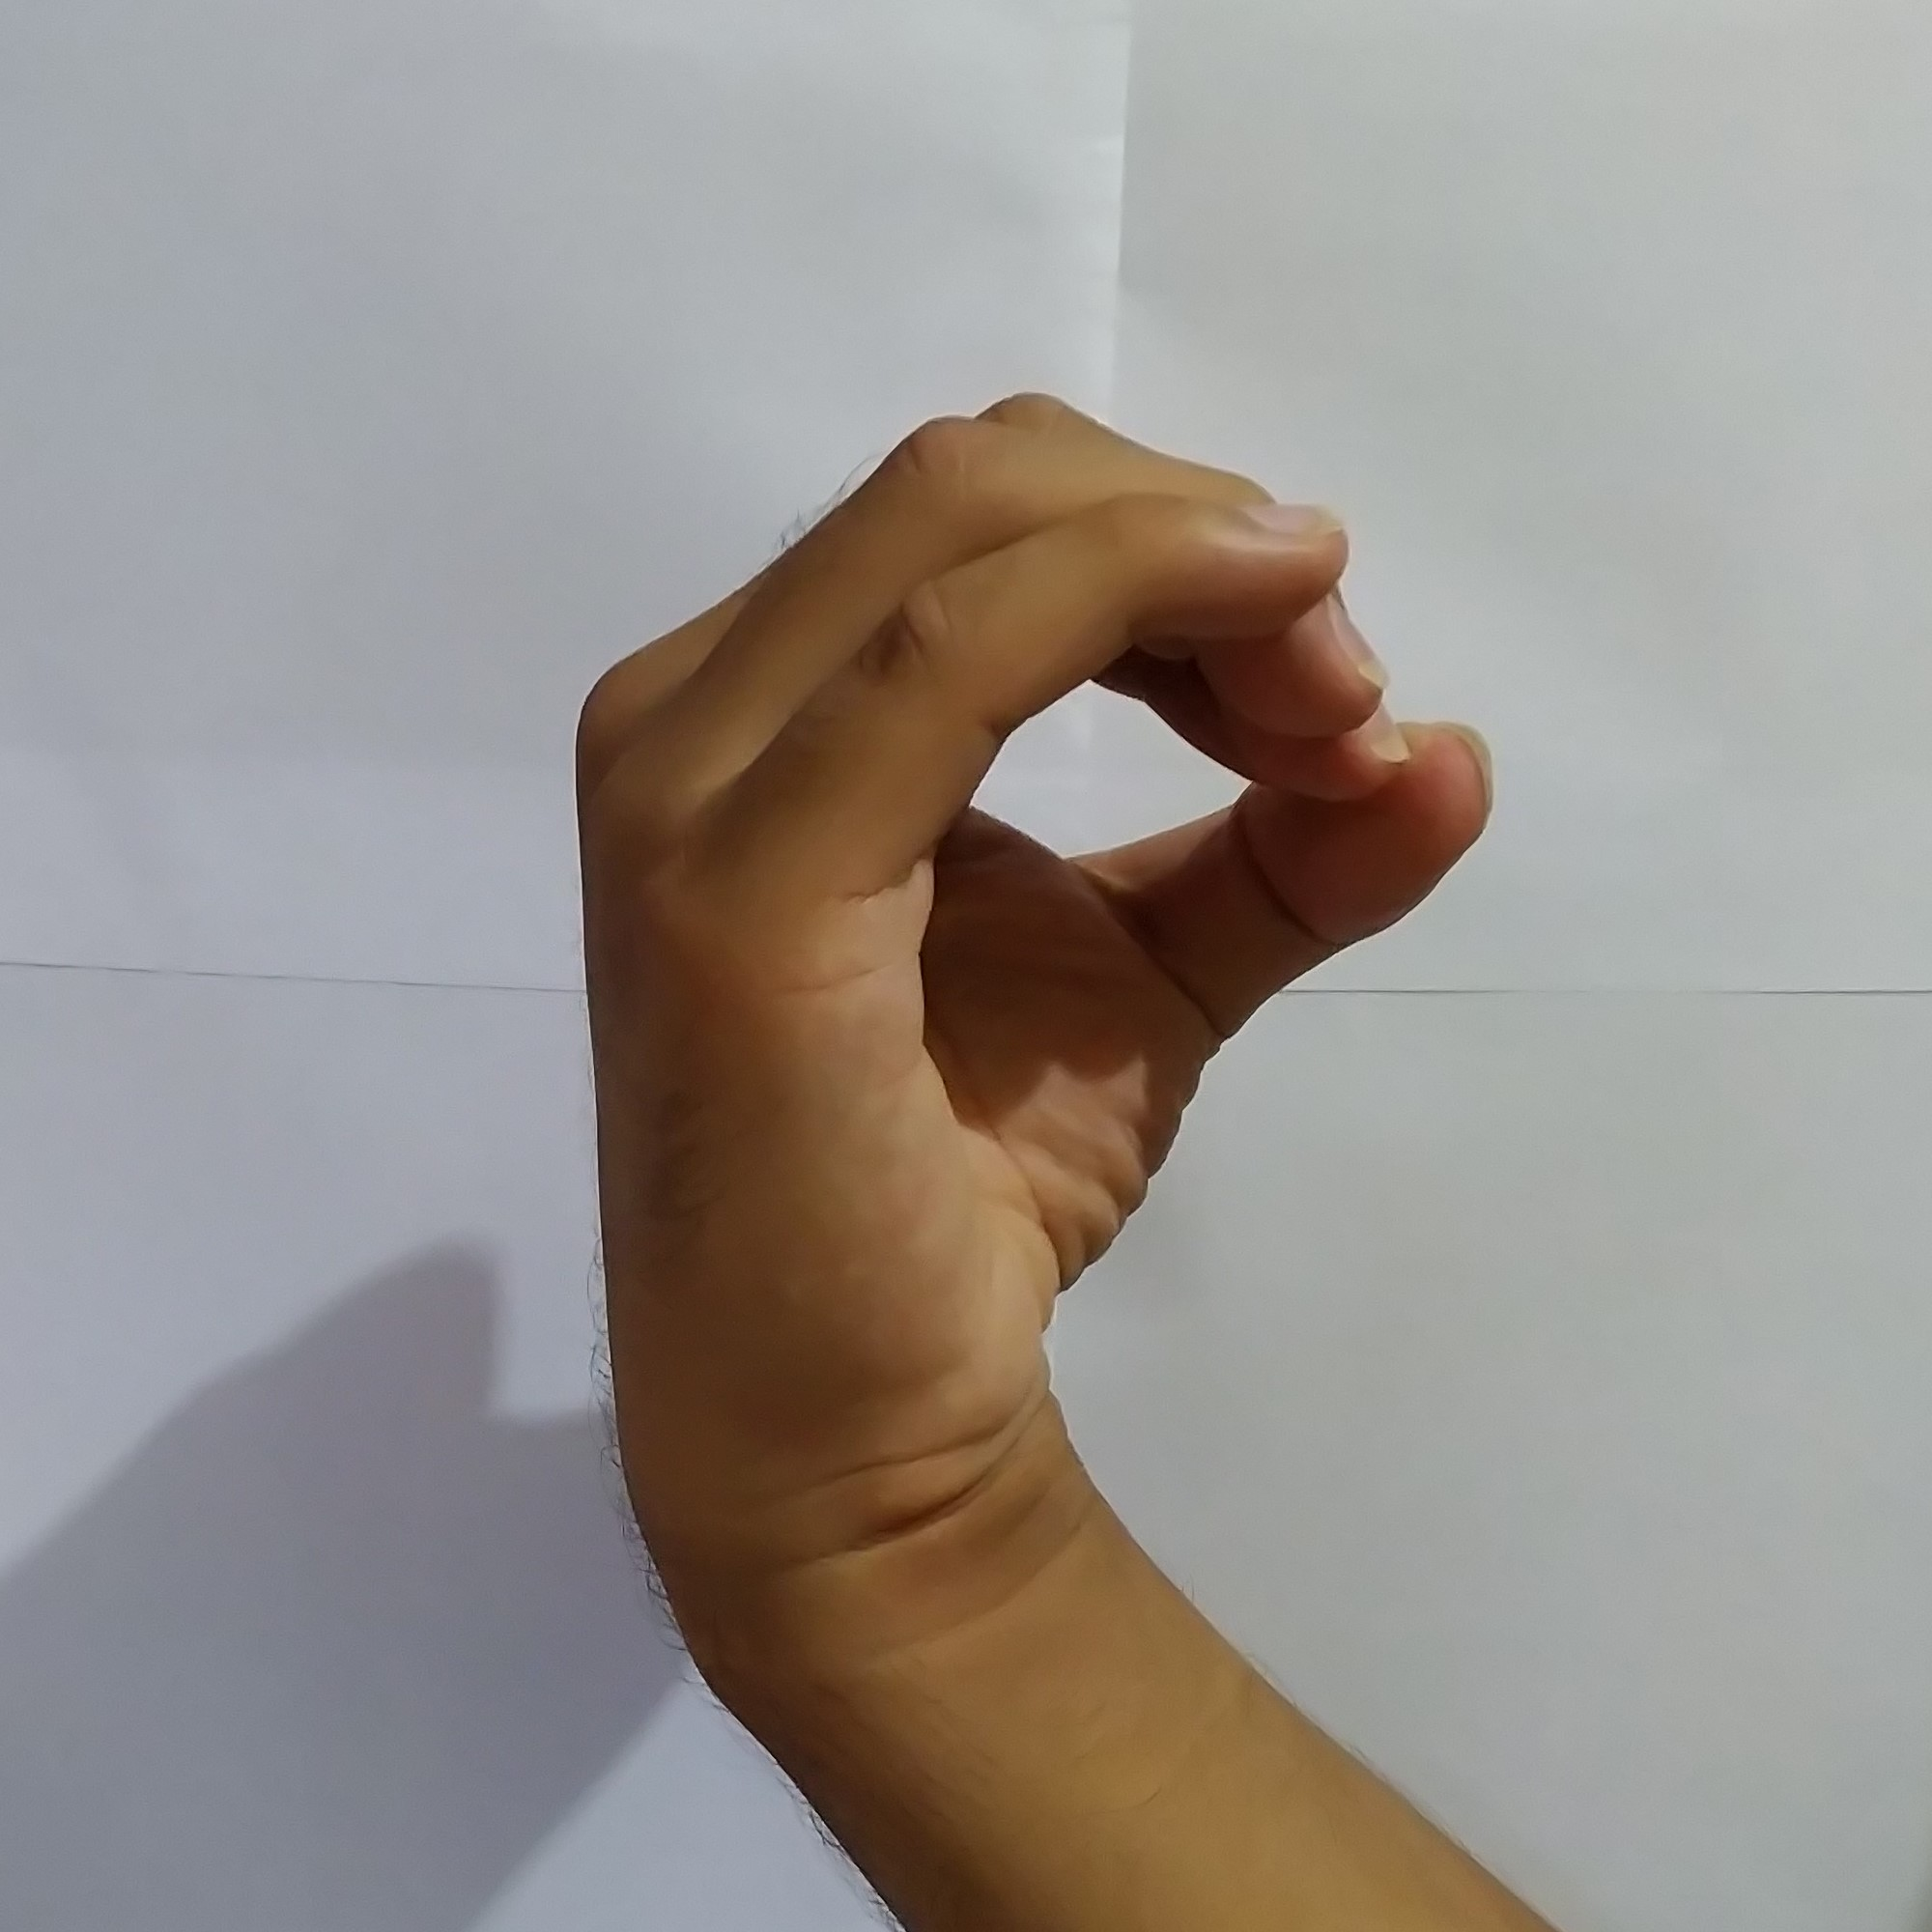O: (527, 366, 1516, 1454)
